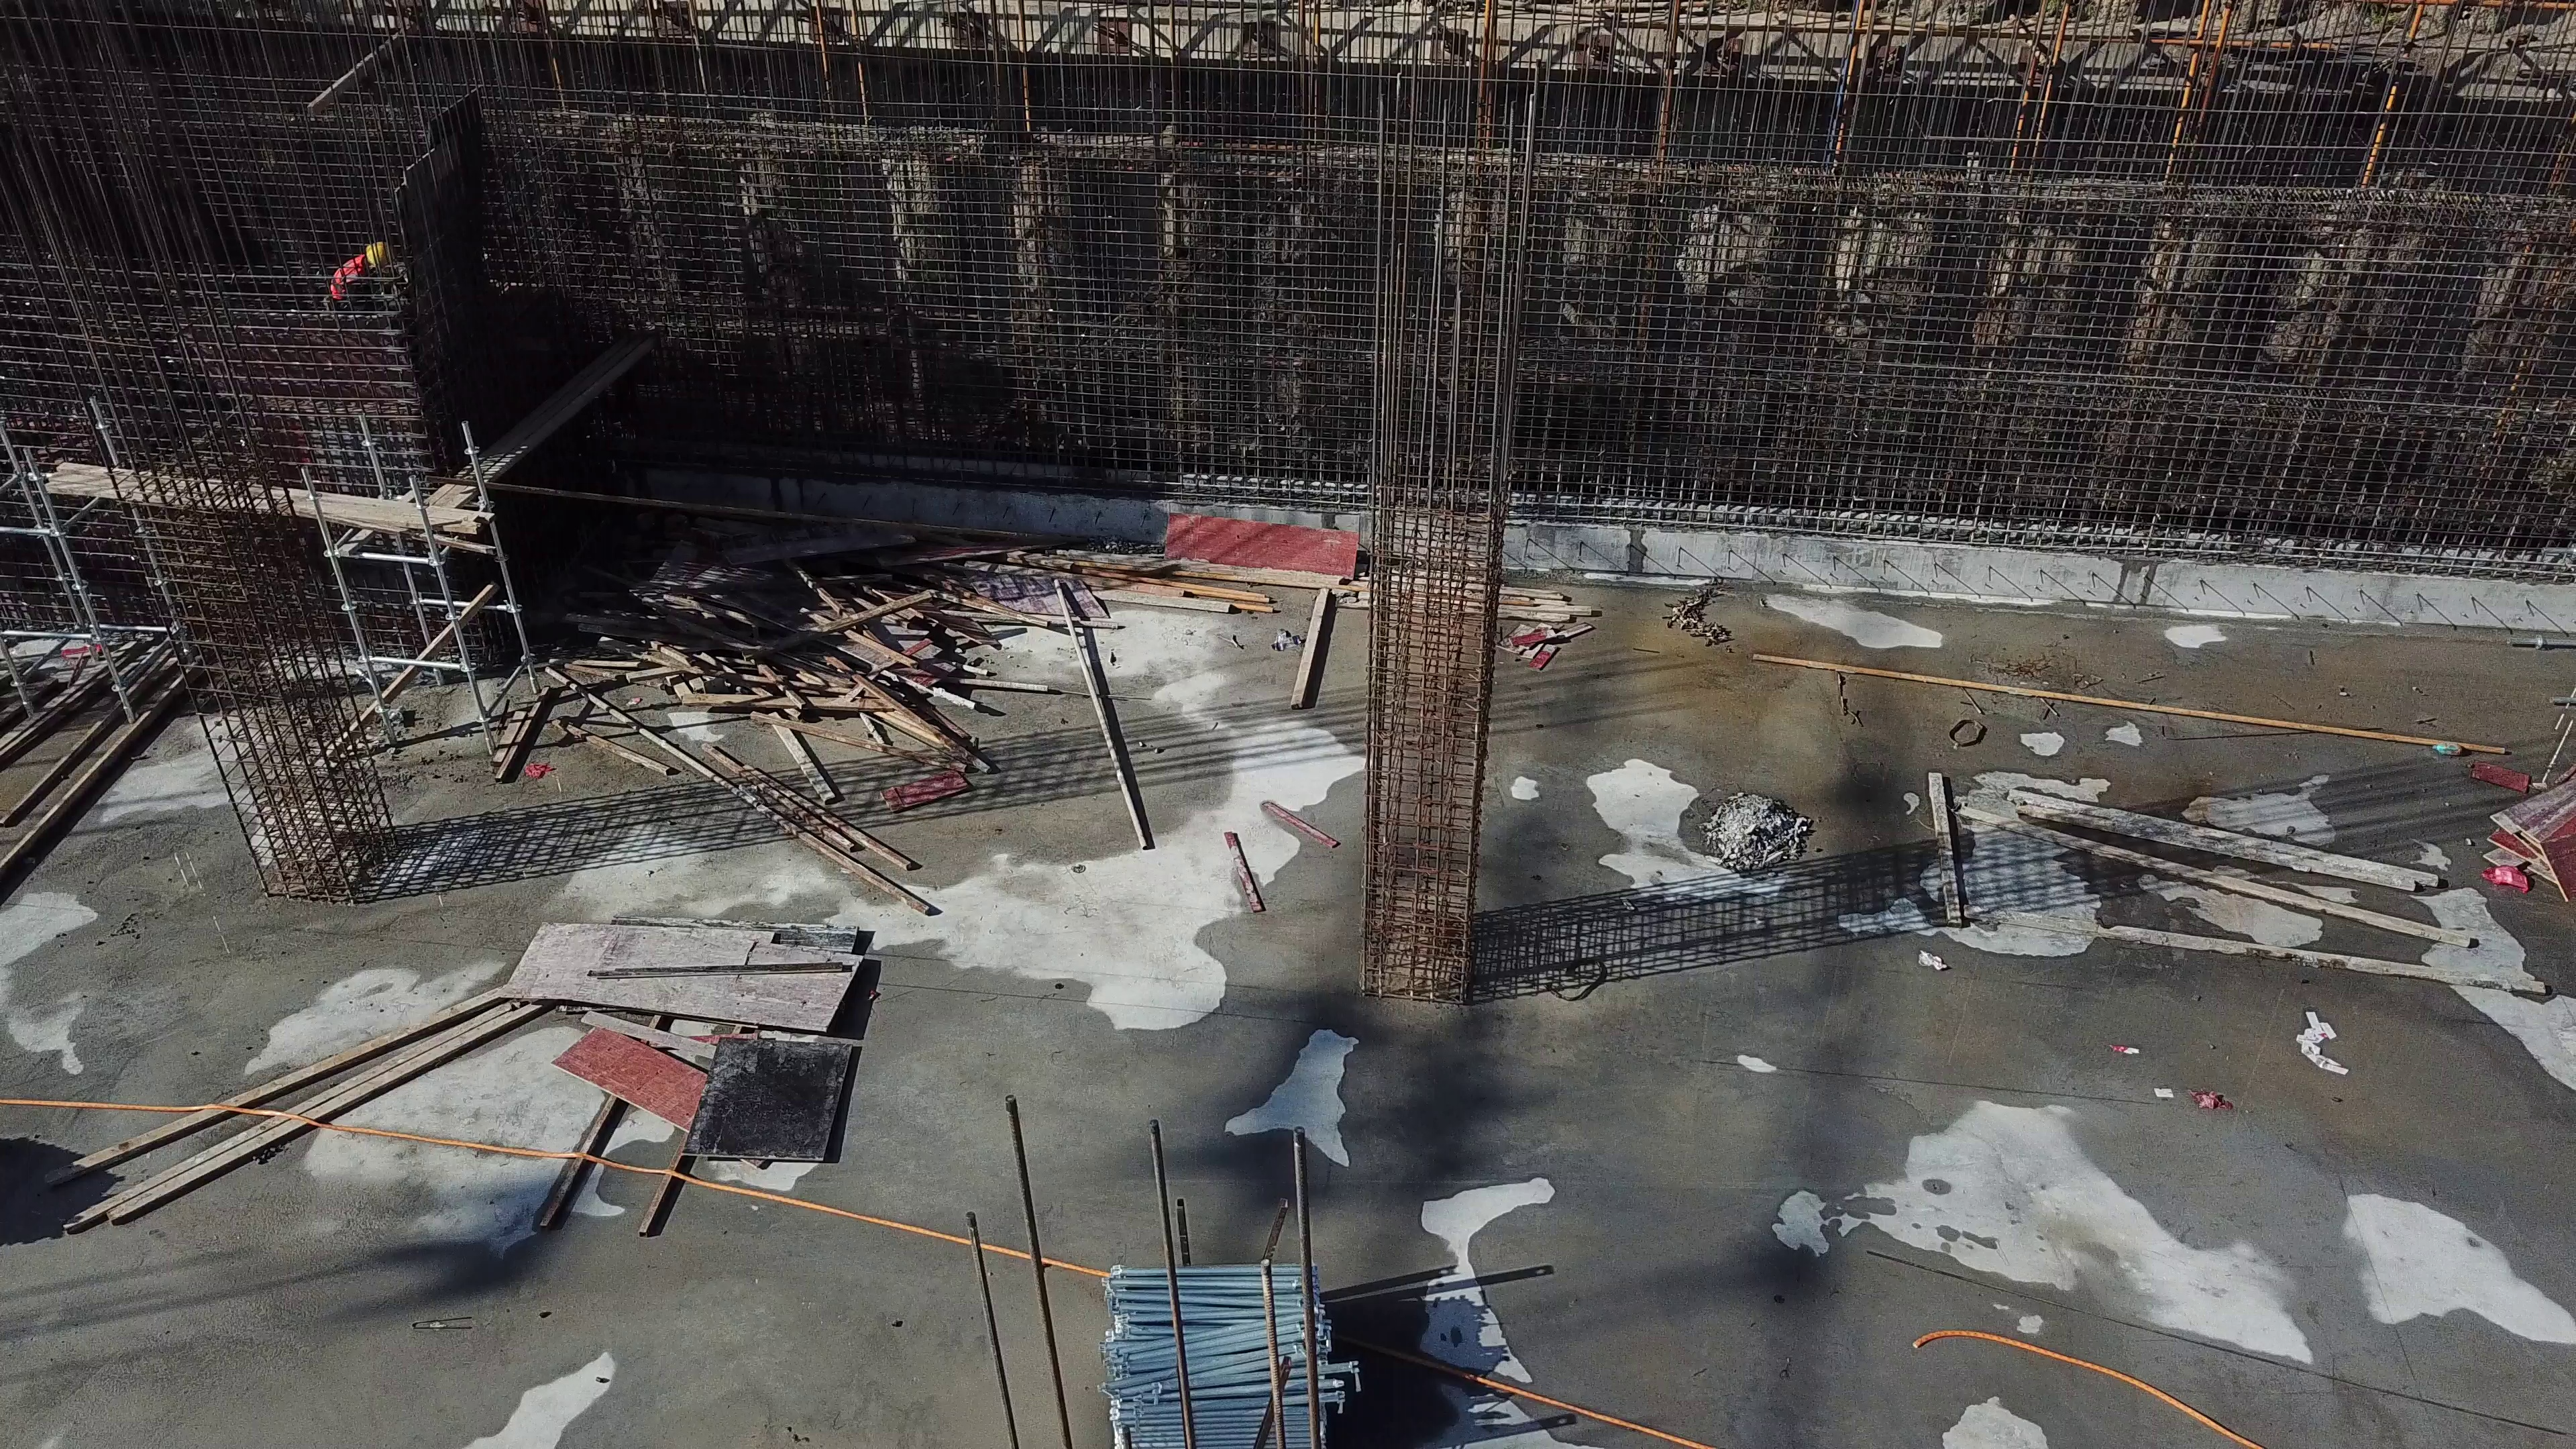helmet: (366, 241, 390, 269)
person: (327, 225, 394, 307)
scaffold: (1091, 1248, 1359, 1449)
vest: (330, 250, 368, 291)
